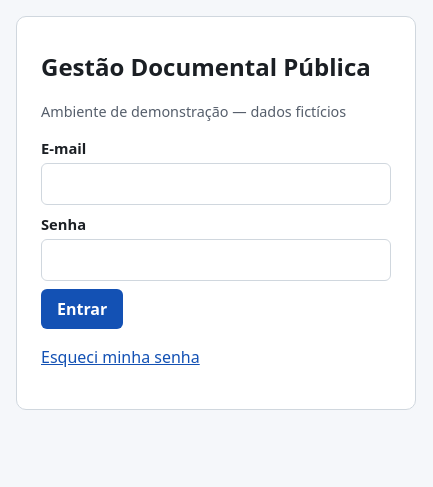
Scenario: exibe a mensagem de erro do servidor
Type "a@b.gov.br" into the field labelled "E-mail" at (216, 184), box [41,163,391,205]
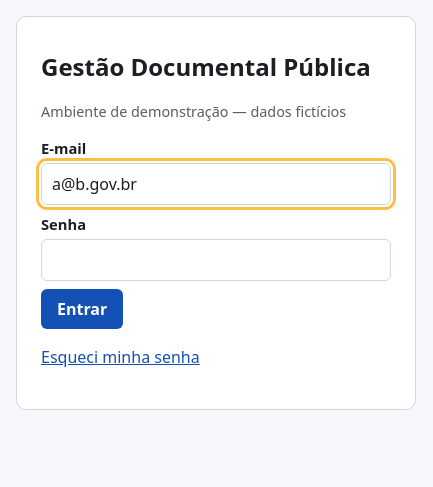
Type "errada" into the password field labelled "Senha" at (216, 260), box [41,239,391,281]
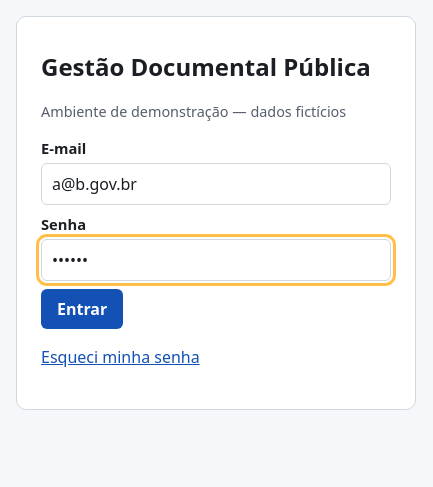
Click the button "Entrar" at (82, 309), box [41,289,123,329]
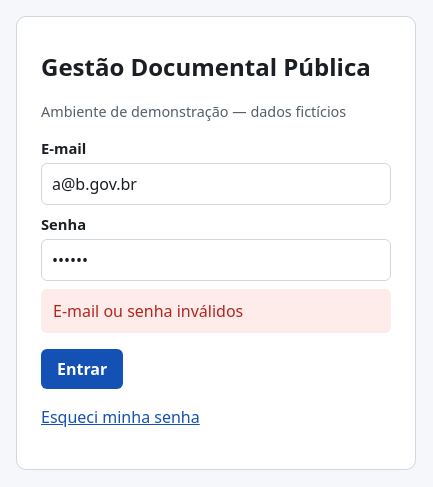
Check: the message reads "E-mail ou senha inválidos", box [53,300,243,322]
